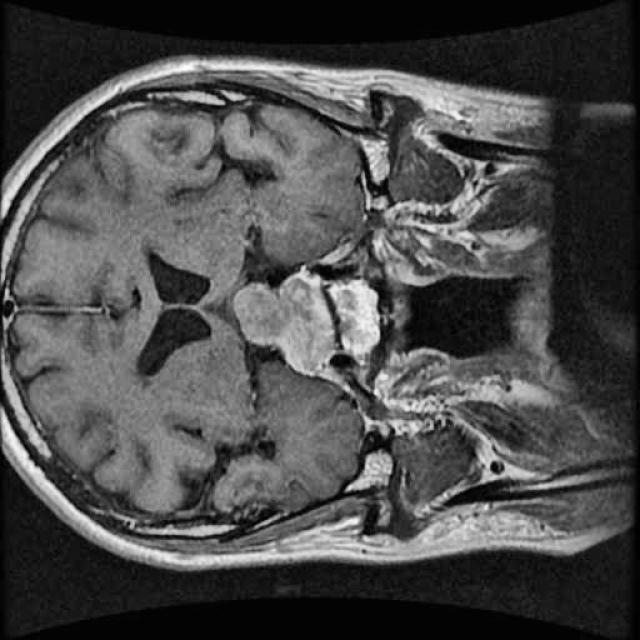Tumor: (225, 259, 355, 390)
